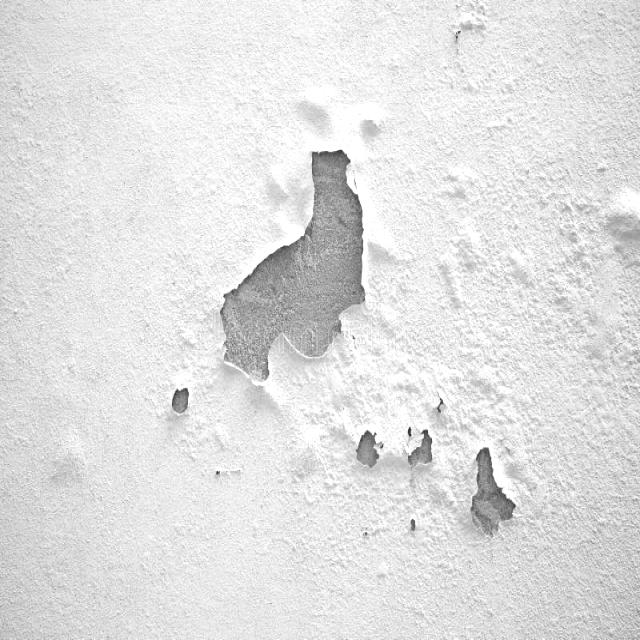peeling paint: (161, 137, 542, 563)
